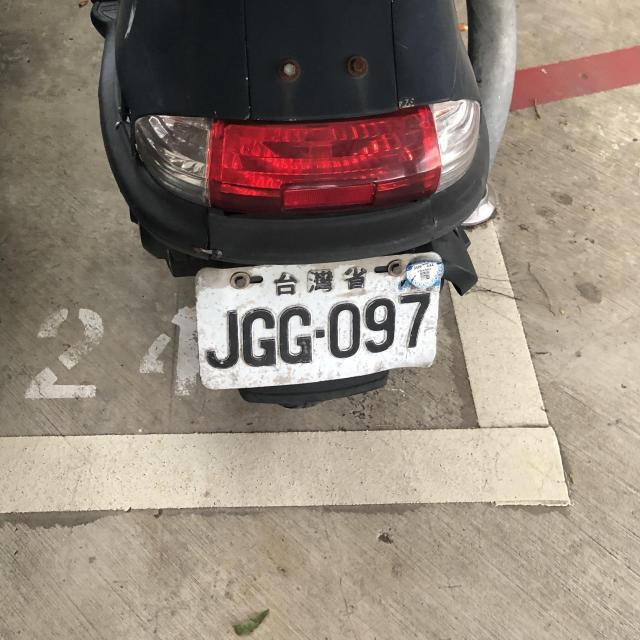W: (192, 248, 450, 390)
